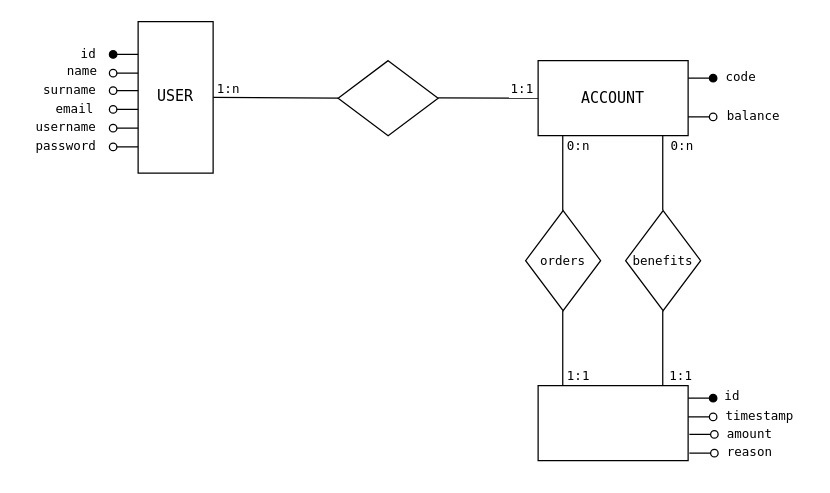
Image size: 830x493. Some labels were removed from this diagram. The shapes that lost their labels are listed below. From the top down, each one's box as (x1, y1, x2, y2) in pixels, then its label:
(337, 59, 438, 136): owns
(537, 384, 688, 461): TRANSFER
